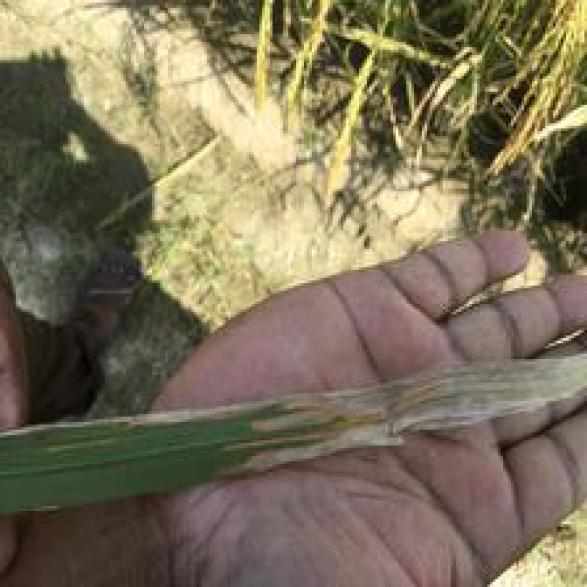Bacteria_Leaf_Blight: (144, 354, 579, 438)
